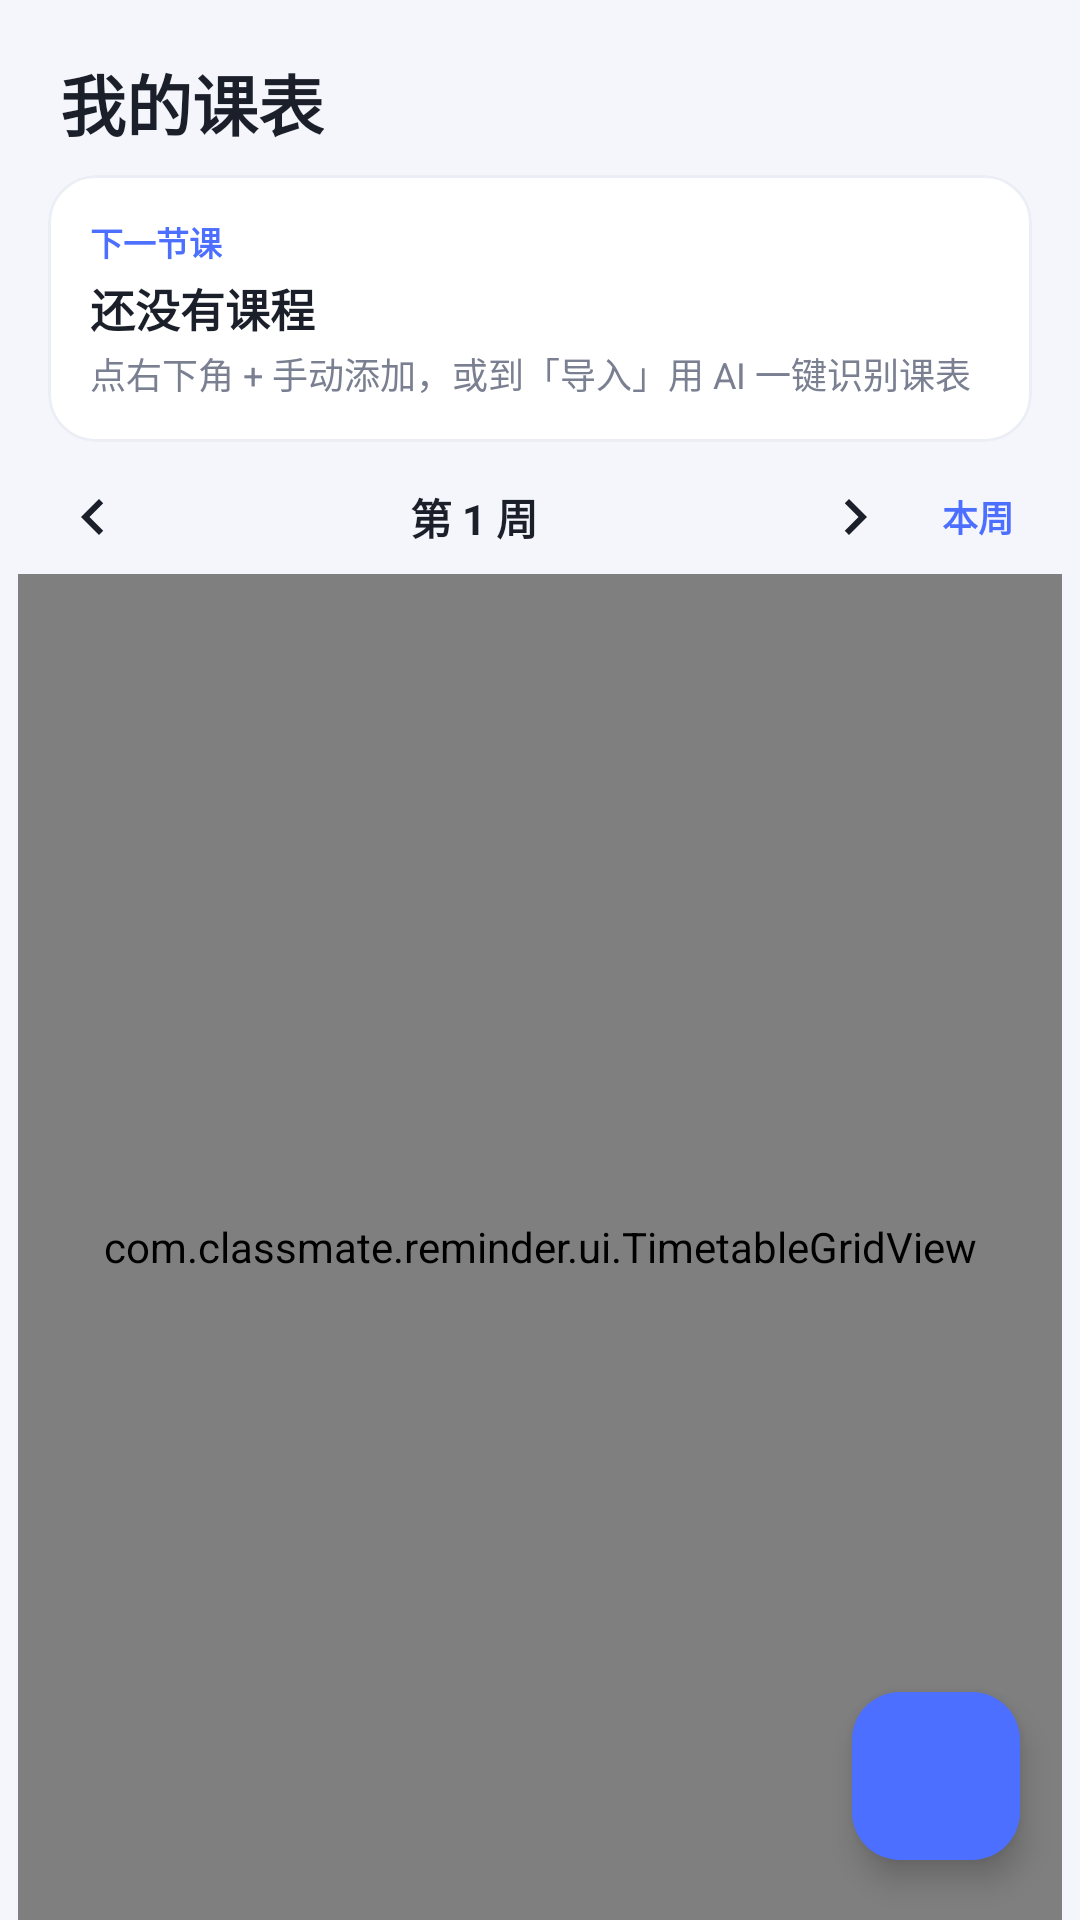

Icons on this 1080px×1920px Android screen, each with its box as (x1, y1, x2, y2):
上一周: (81, 499, 103, 535)
下一周: (845, 499, 867, 535)
